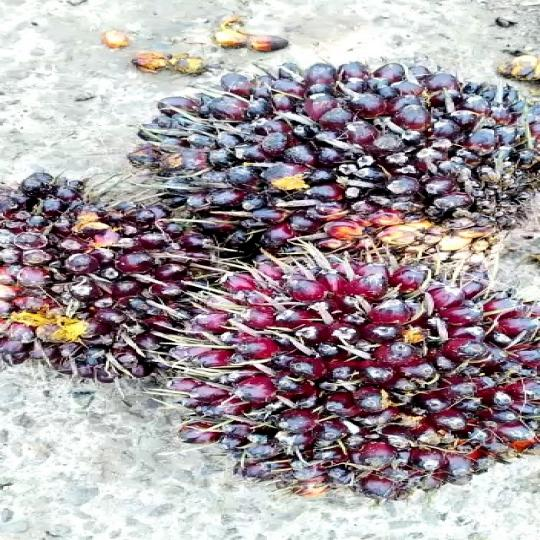kurang masak: (137, 252, 540, 525), (120, 52, 540, 253), (0, 161, 234, 413)
